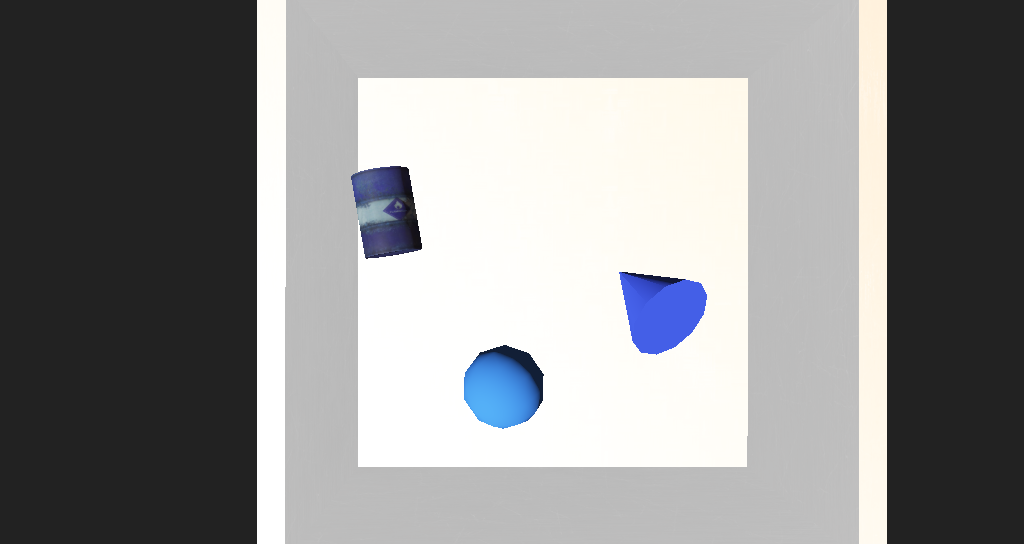cone: (347, 212, 408, 265)
cylinder: (529, 248, 630, 315)
sphere: (431, 305, 499, 353)
